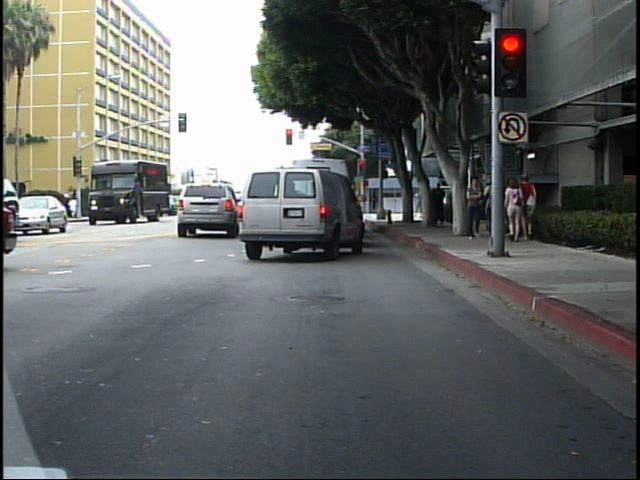person: (520, 171, 544, 246), (504, 170, 528, 244), (468, 175, 488, 242), (431, 175, 447, 230), (64, 190, 80, 221), (412, 185, 424, 217)
